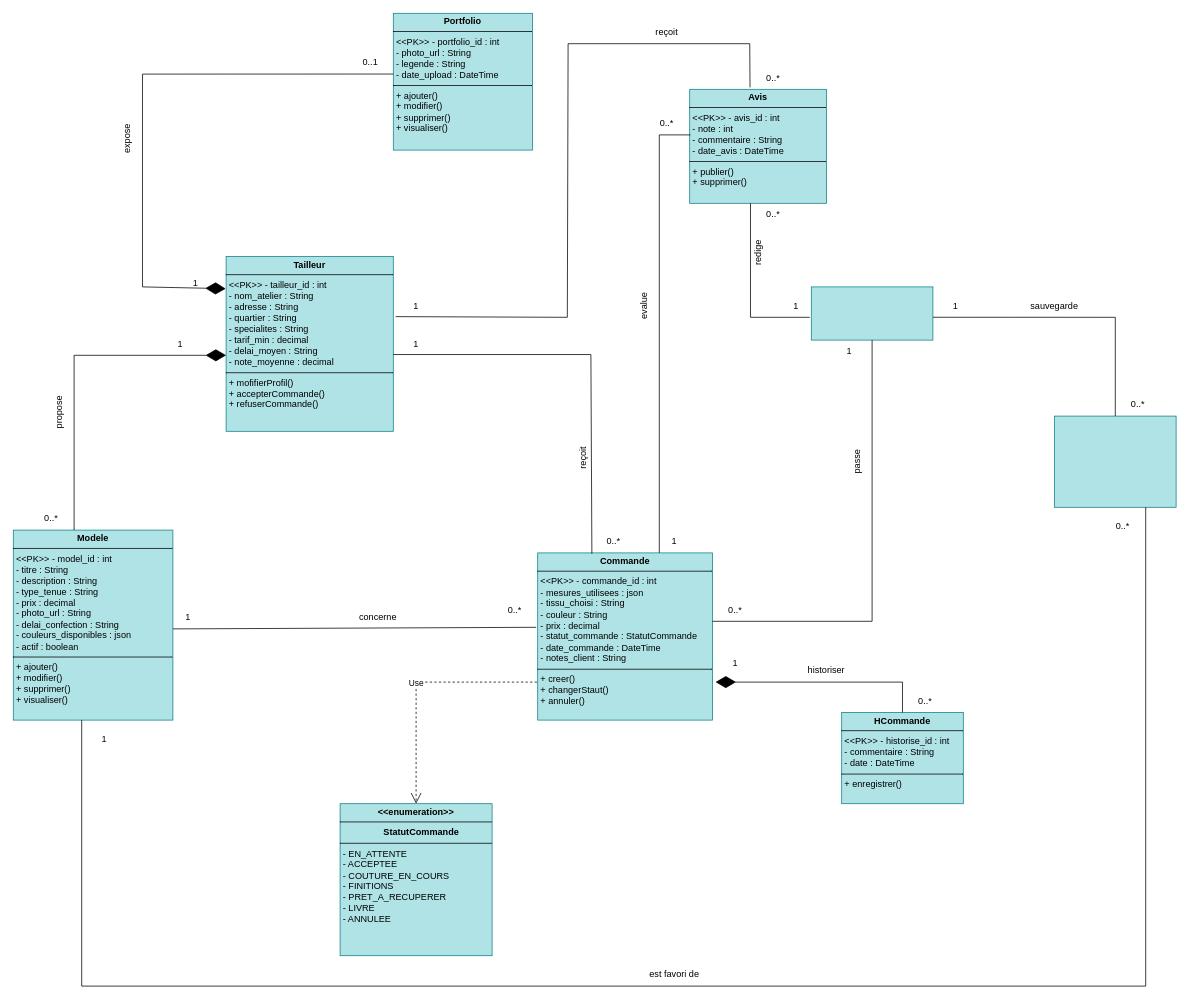
Some shapes in this 1189 by 1000 pixel diagram are drawn without their labels. Here are the shapes that lost their labels. From the top down, the box of each, then its label:
(811, 286, 933, 340): Client <<PK>> - client_id : int
(1054, 415, 1176, 507): Favori <<PK>> - favori_id : int - date_ajout : DateTime + ajouter() + retirer()
